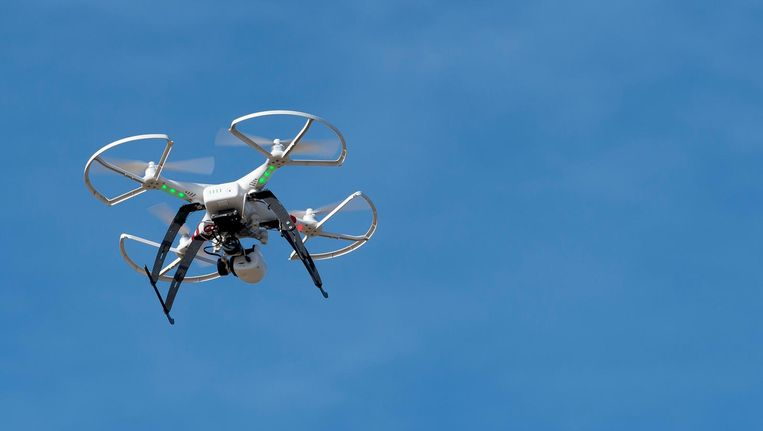drone: (75, 94, 396, 333)
